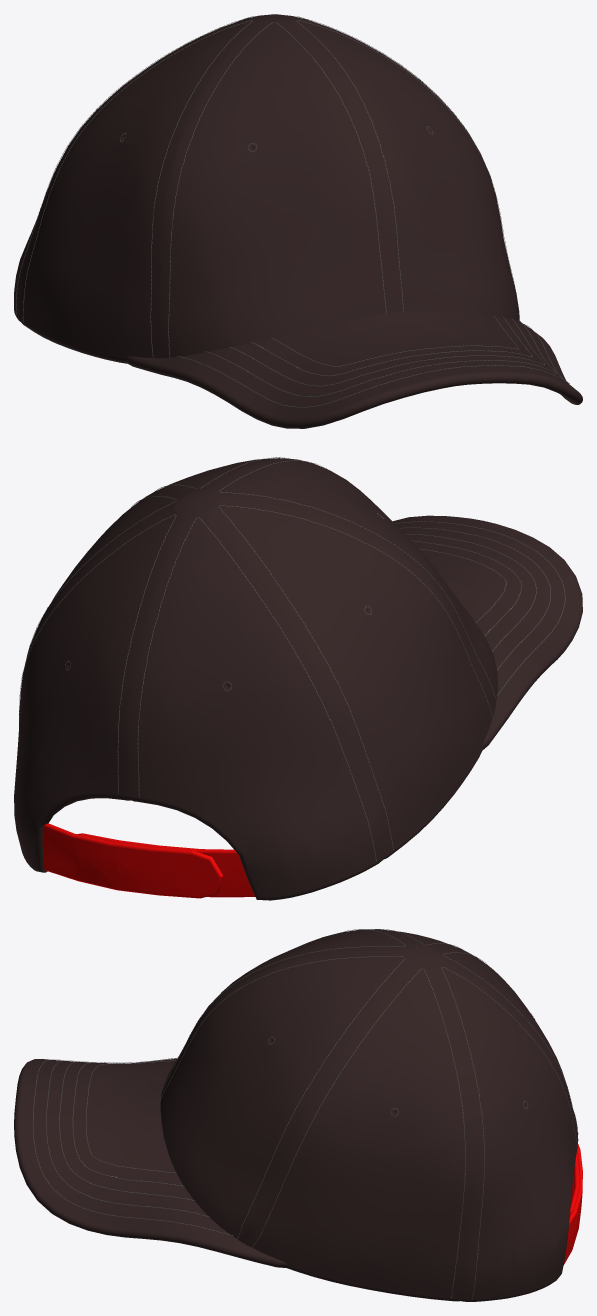
Rendered from gorra.glb.
The picture shows the model from 3 angles, top to bottom: view 1: azimuth 30°, elevation 25°; view 2: azimuth 150°, elevation 25°; view 3: azimuth 270°, elevation 25°; orthographic projection. The views are drawn at different scales.
Visible parts, largest first — view 1: Pattern2D_19150_Node_4, Pattern2D_19142_Node_3, Pattern2D_2289809_Node_9, Pattern2D_19139_Node_5, Pattern2D_19144_Node_2; view 2: Pattern2D_19144_Node_2, Pattern2D_19142_Node_3, Pattern2D_19148_Node_7, Pattern2D_2289809_Node_9, Pattern2D_19150_Node_4, Pattern2D_2477926_Node_8, Pattern2D_19137_Node_6, Pattern2D_2477926_199334_Node_11, Pattern2D_19139_Node_5, Pattern2D_4155019_Node_10; view 3: Pattern2D_19137_Node_6, Pattern2D_19139_Node_5, Pattern2D_19148_Node_7, Pattern2D_2289809_Node_9, Pattern2D_19150_Node_4, Pattern2D_19144_Node_2, Pattern2D_2477926_Node_8, Pattern2D_4155019_Node_10, Pattern2D_19142_Node_3.
Boxes of the visible parts, x1=… form: Pattern2D_19150_Node_4: x1=160, y1=21, x2=395, y2=358; Pattern2D_19142_Node_3: x1=19, y1=18, x2=261, y2=363; Pattern2D_2289809_Node_9: x1=125, y1=310, x2=582, y2=428; Pattern2D_19139_Node_5: x1=287, y1=18, x2=519, y2=320; Pattern2D_19144_Node_2: x1=14, y1=17, x2=252, y2=321; Pattern2D_19144_Node_2: x1=128, y1=513, x2=385, y2=900; Pattern2D_19142_Node_3: x1=210, y1=499, x2=494, y2=859; Pattern2D_19148_Node_7: x1=14, y1=508, x2=185, y2=872; Pattern2D_2289809_Node_9: x1=393, y1=515, x2=582, y2=749; Pattern2D_19150_Node_4: x1=211, y1=458, x2=498, y2=710; Pattern2D_2477926_Node_8: x1=42, y1=823, x2=223, y2=898; Pattern2D_19137_Node_6: x1=29, y1=490, x2=185, y2=648; Pattern2D_2477926_199334_Node_11: x1=76, y1=833, x2=255, y2=897; Pattern2D_19139_Node_5: x1=149, y1=458, x2=296, y2=494; Pattern2D_4155019_Node_10: x1=174, y1=489, x2=221, y2=517; Pattern2D_19137_Node_6: x1=246, y1=964, x2=474, y2=1301; Pattern2D_19139_Node_5: x1=160, y1=951, x2=412, y2=1244; Pattern2D_19148_Node_7: x1=433, y1=962, x2=577, y2=1301; Pattern2D_2289809_Node_9: x1=14, y1=1059, x2=287, y2=1267; Pattern2D_19150_Node_4: x1=161, y1=929, x2=413, y2=1095; Pattern2D_19144_Node_2: x1=435, y1=948, x2=578, y2=1140; Pattern2D_2477926_Node_8: x1=563, y1=1144, x2=582, y2=1264; Pattern2D_4155019_Node_10: x1=403, y1=944, x2=444, y2=969; Pattern2D_19142_Node_3: x1=376, y1=929, x2=464, y2=950.
Bounding box in the file's own units: 0.1854 × 0.1569 × 0.2734.
Materials: 10 (7 with a texture image).
